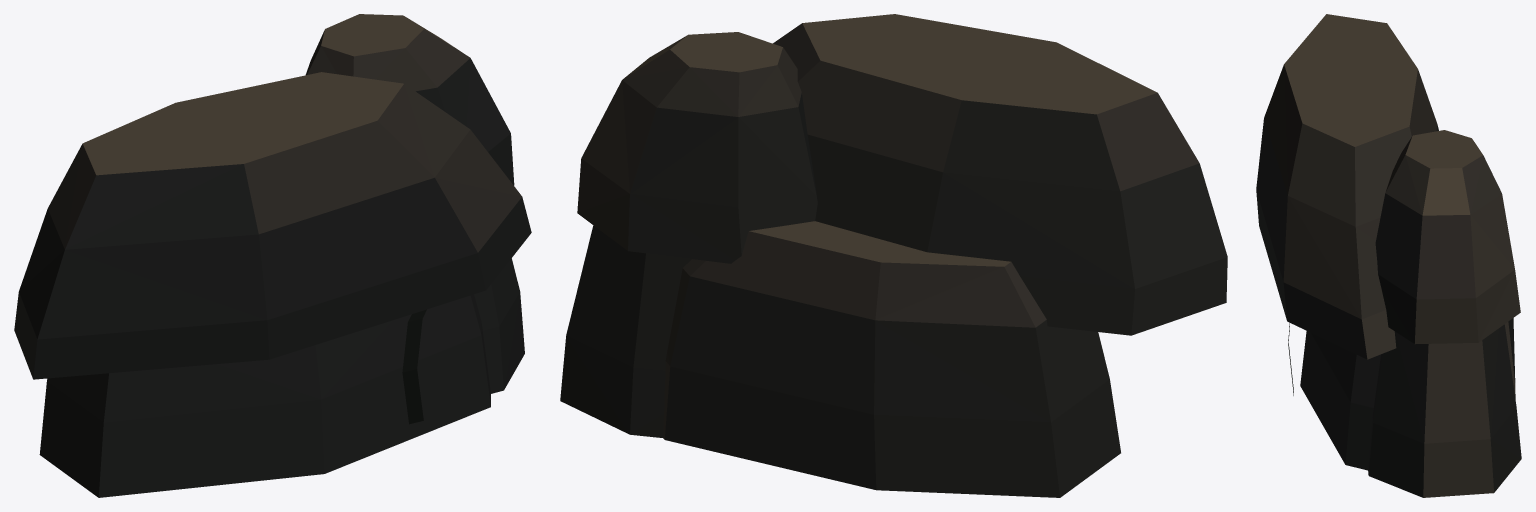
The model's file is verdant-cliff-ledge.glb.
3 views of the same model, side by side, from view 1: azimuth 30°, elevation 25°; view 2: azimuth 150°, elevation 25°; view 3: azimuth 270°, elevation 25° (orthographic). The views are drawn at different scales.
Visible parts, largest first — view 1: verdant-cliff-ledge; view 2: verdant-cliff-ledge; view 3: verdant-cliff-ledge.
Boxes of the visible parts, x1,y1,x2,y2 form: verdant-cliff-ledge: (14, 14, 531, 497); verdant-cliff-ledge: (560, 14, 1227, 497); verdant-cliff-ledge: (1256, 14, 1521, 497).
Size of the model in its own units: 3.88 by 2.32 by 1.93.
Materials: 1 (1 with a texture image).
